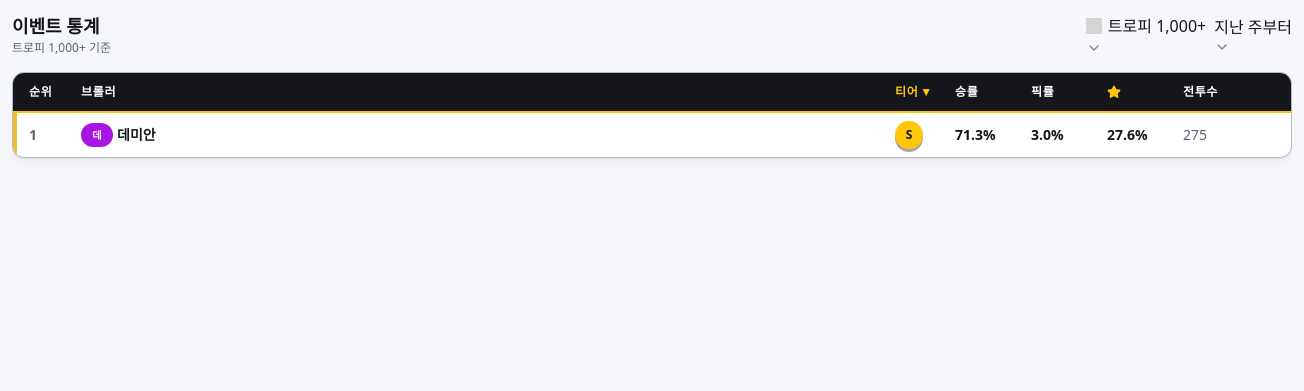
Test case: EventStatsPanel (결과형) › 브롤러 행 클릭 → 선택 패널이 열리고 URL 에 brawlerId 가 실린다
Click the button "1 데 데미안 S 71.3% 3.0% 27.6% 275": [97, 135] box [13,113,1291,157]
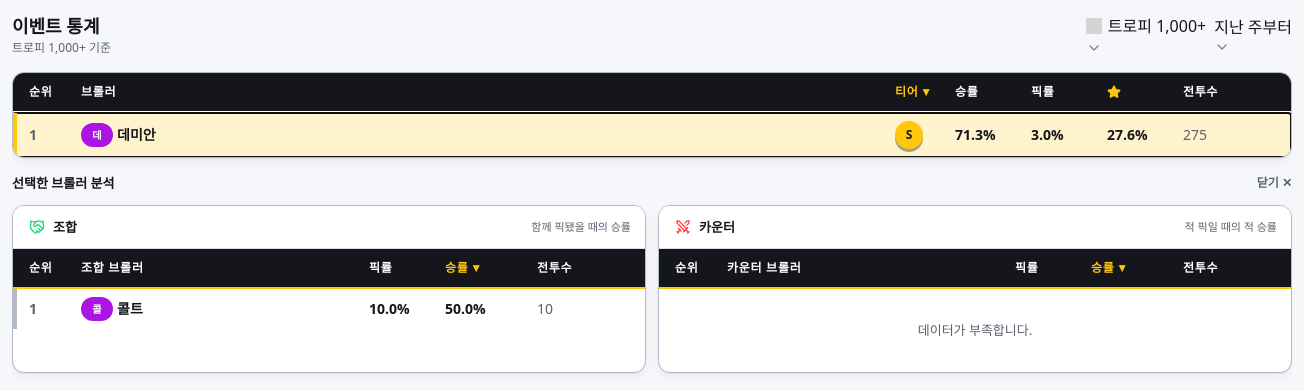
Check: the heading "선택한 브롤러 분석" is shown, box [12,174,114,193]
Click the button "닫기 ✕": [1274, 183] box [1257,175,1292,191]
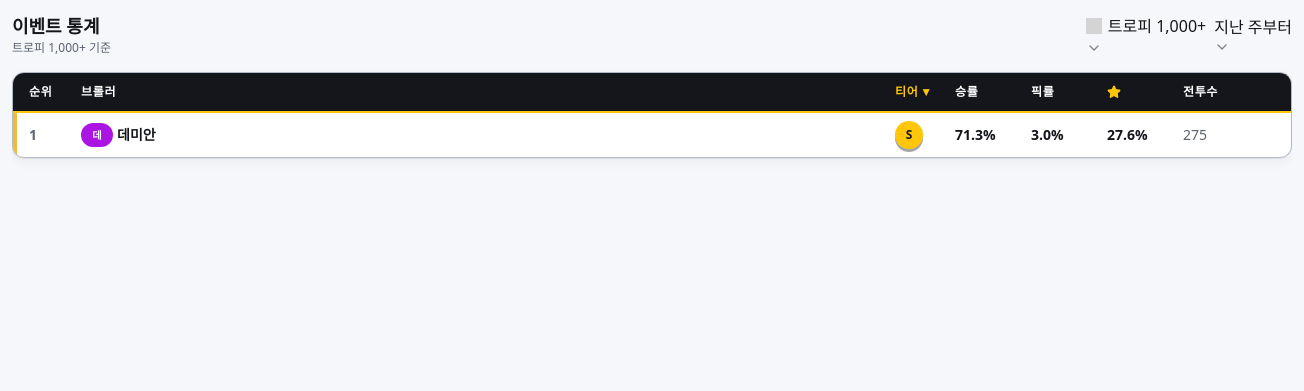
Check: the heading "선택한 브롤러 분석" is gone
